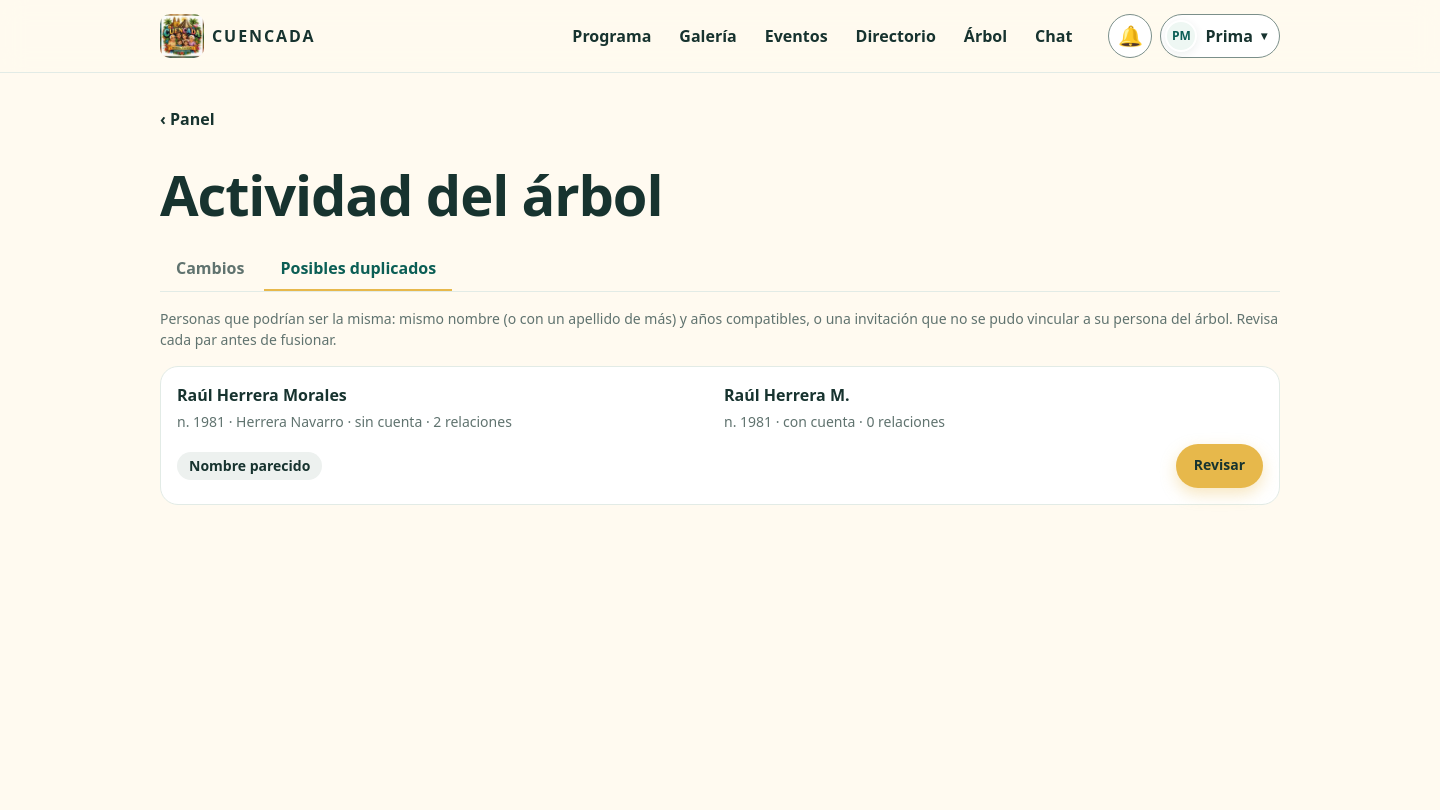
Test case: Actividad del árbol · Posibles duplicados › lists pairs, reviews one, merges after the confirmation, opens the kept person and offers «Deshacer»
Expected: the text "Nombre parecido" is shown, [189,459,310,473]
Expected: the text "n. 1981 · Herrera Navarro · sin cuenta · 2 relaciones" is shown, [177,412,512,431]
Click the button with aria-label "Revisar: Raúl Herrera Morales y Raúl Herrera M.". click: (1219, 466)
box: [1176,444,1263,488]
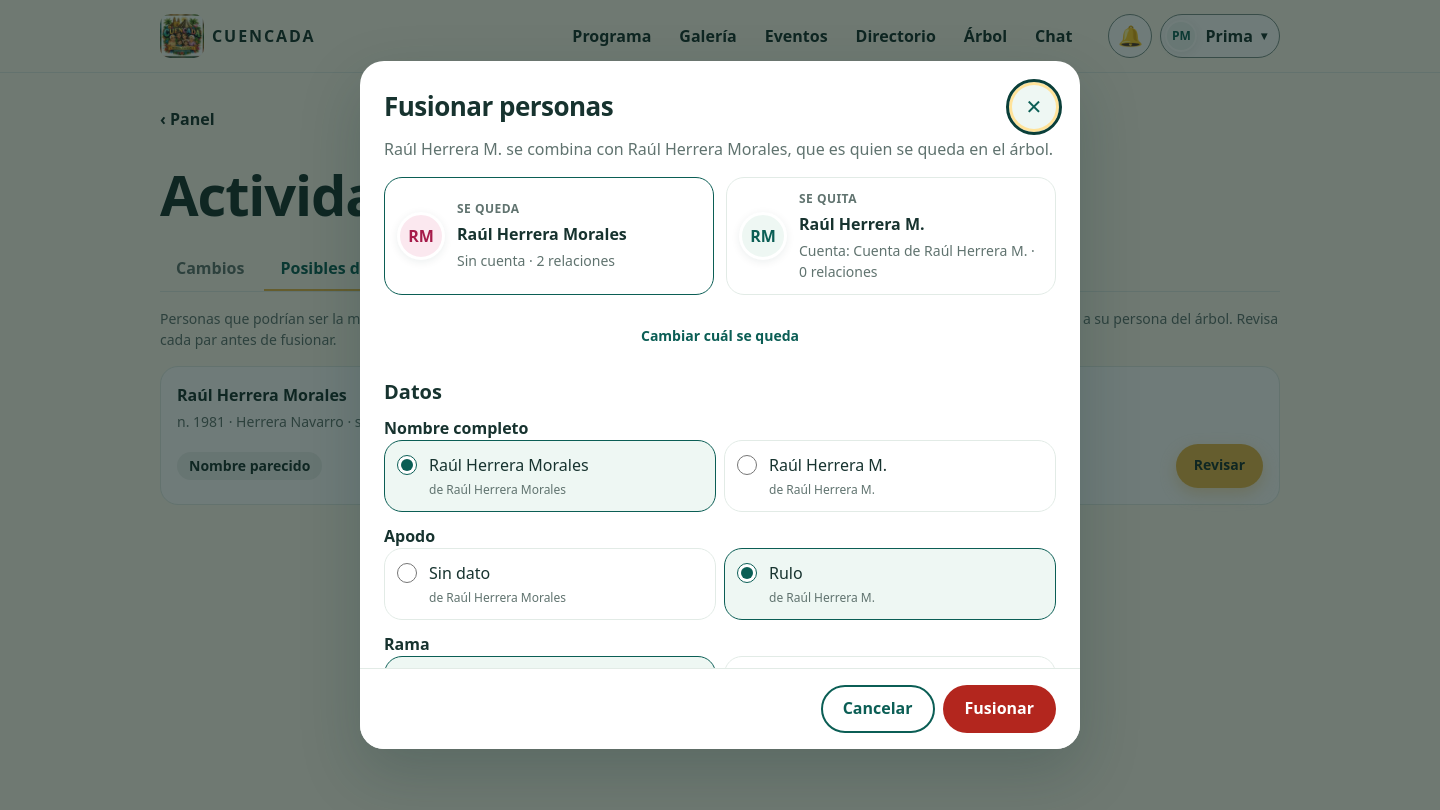
Expected: the text "Se queda" is shown, [457,200,520,217]
Expected: the text "Cuenta: Cuenta de Raúl Herrera M. · 0 relaciones" is shown, [799,240,1043,282]
Expected: the radio button labelled "Rulo de Raúl Herrera M." is checked, [737,563,757,583]
Click the radio button labelled "Raúl Herrera M. de Raúl Herrera M.". click: (747, 465)
box: [737,455,757,475]
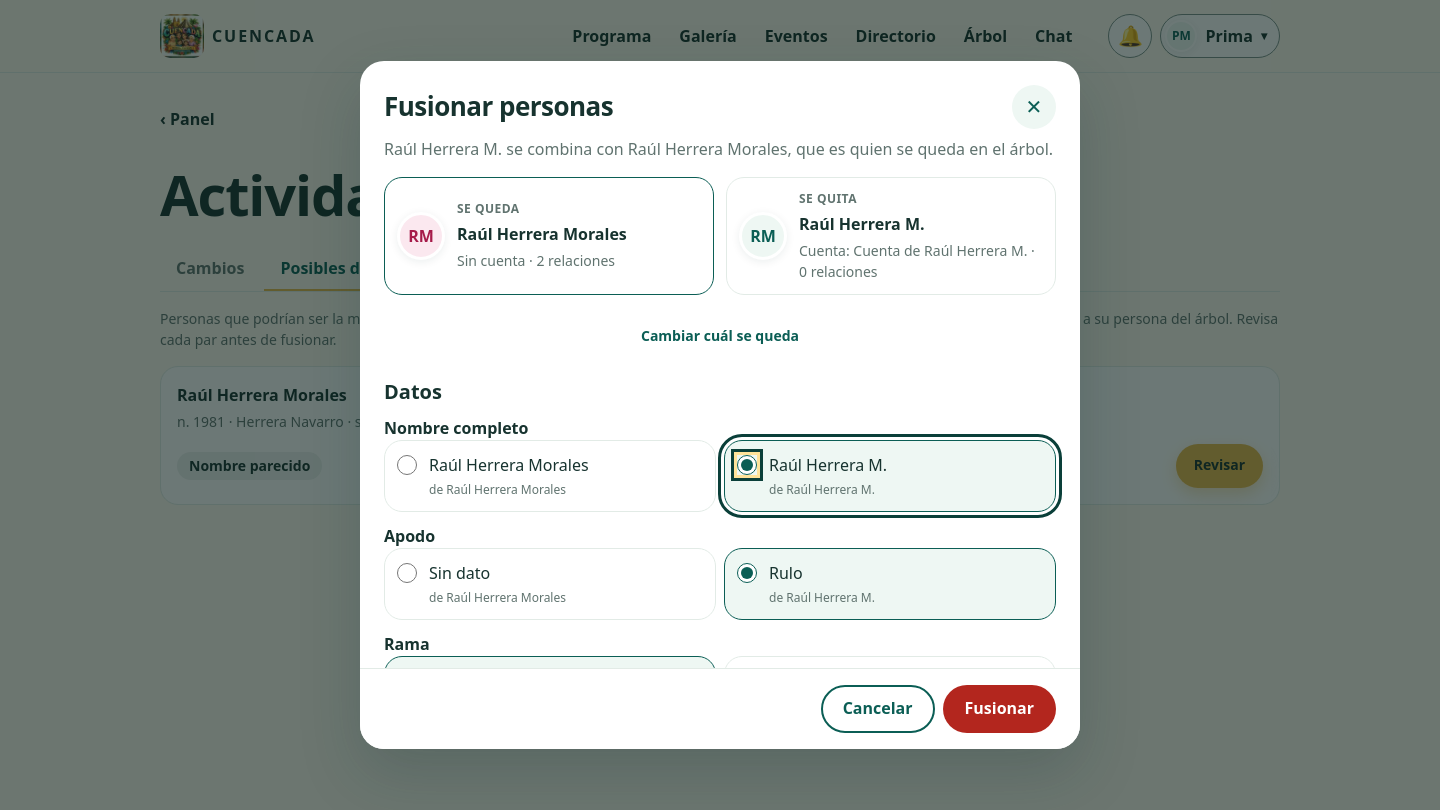
Click the button "Fusionar". click: (999, 709)
box: [942,685,1056,733]
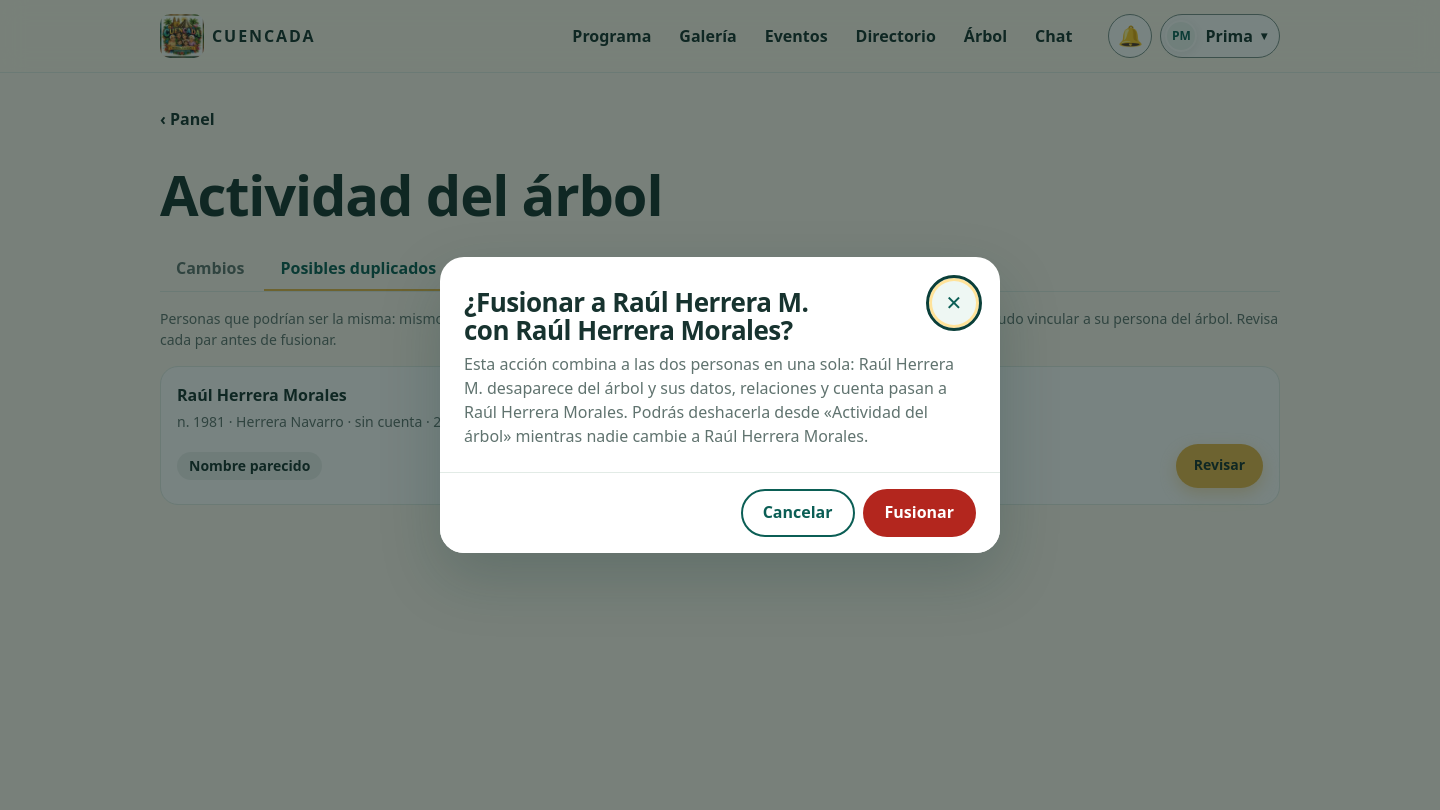
Expected: the dialog "¿Fusionar a Raúl Herrera M. con Raúl Herrera Morales?" shows "Esta acción combina a las dos personas en una sola", [464,353,954,447]
Click the button "Fusionar". click: (919, 513)
box: [862,489,976,537]
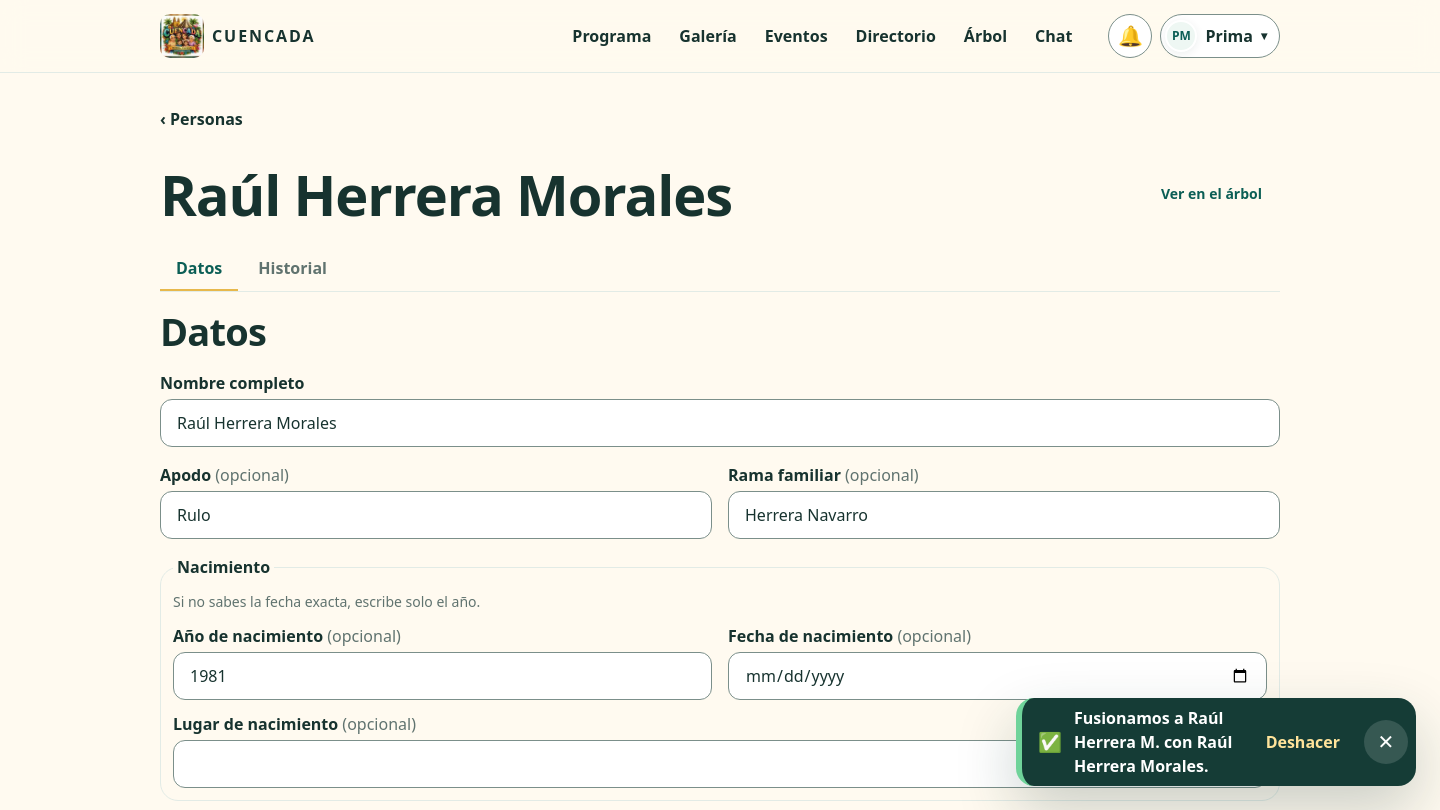
Expected: the text "Fusionamos a Raúl Herrera M. con Raúl Herrera Morales." is shown, [1074,706,1242,778]
Expected: the heading "Raúl Herrera Morales" is shown, [160,165,732,224]
Click the button "Deshacer". click: (1303, 742)
box: [1254,720,1352,764]
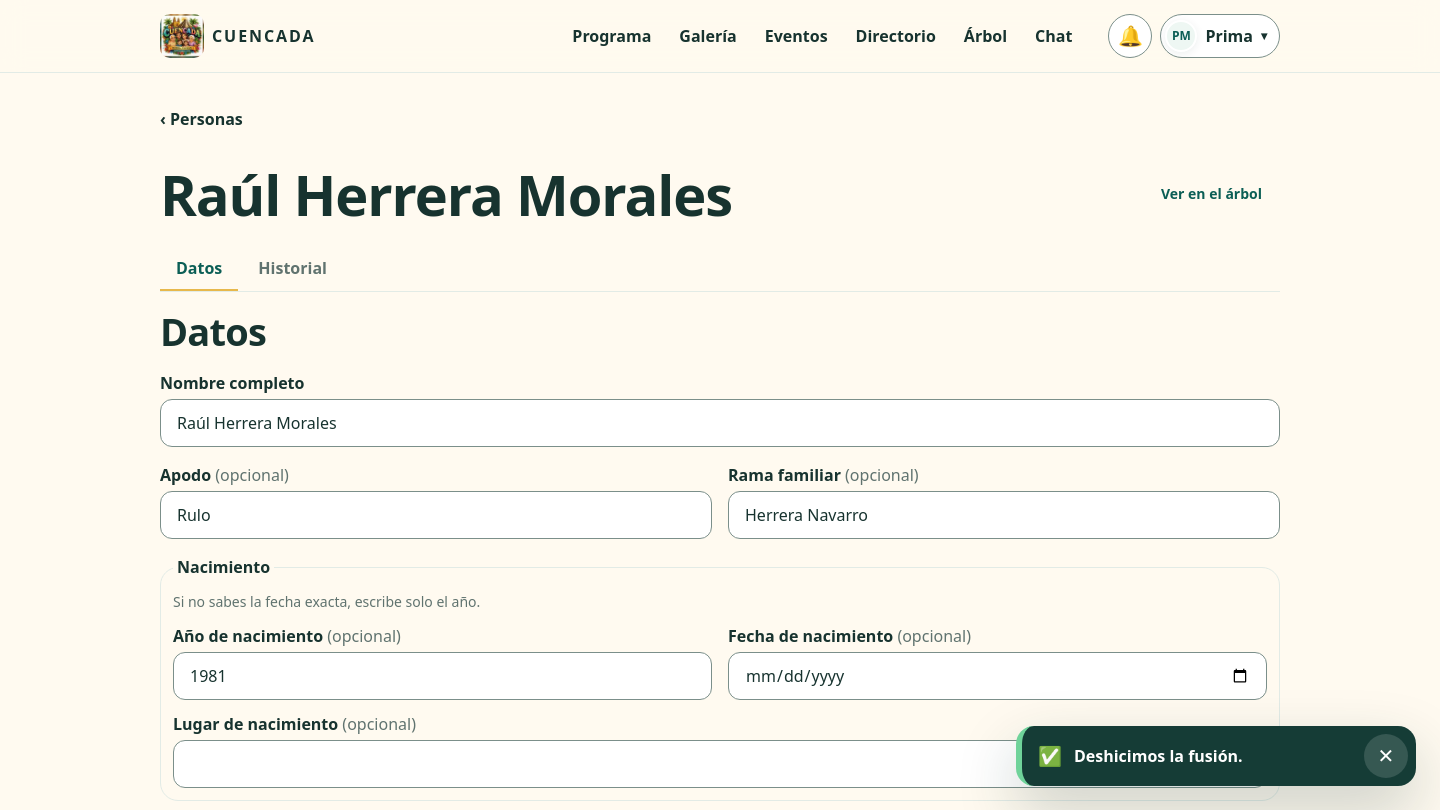
Expected: the text "Deshicimos la fusión." is shown, [1074,745,1243,767]
